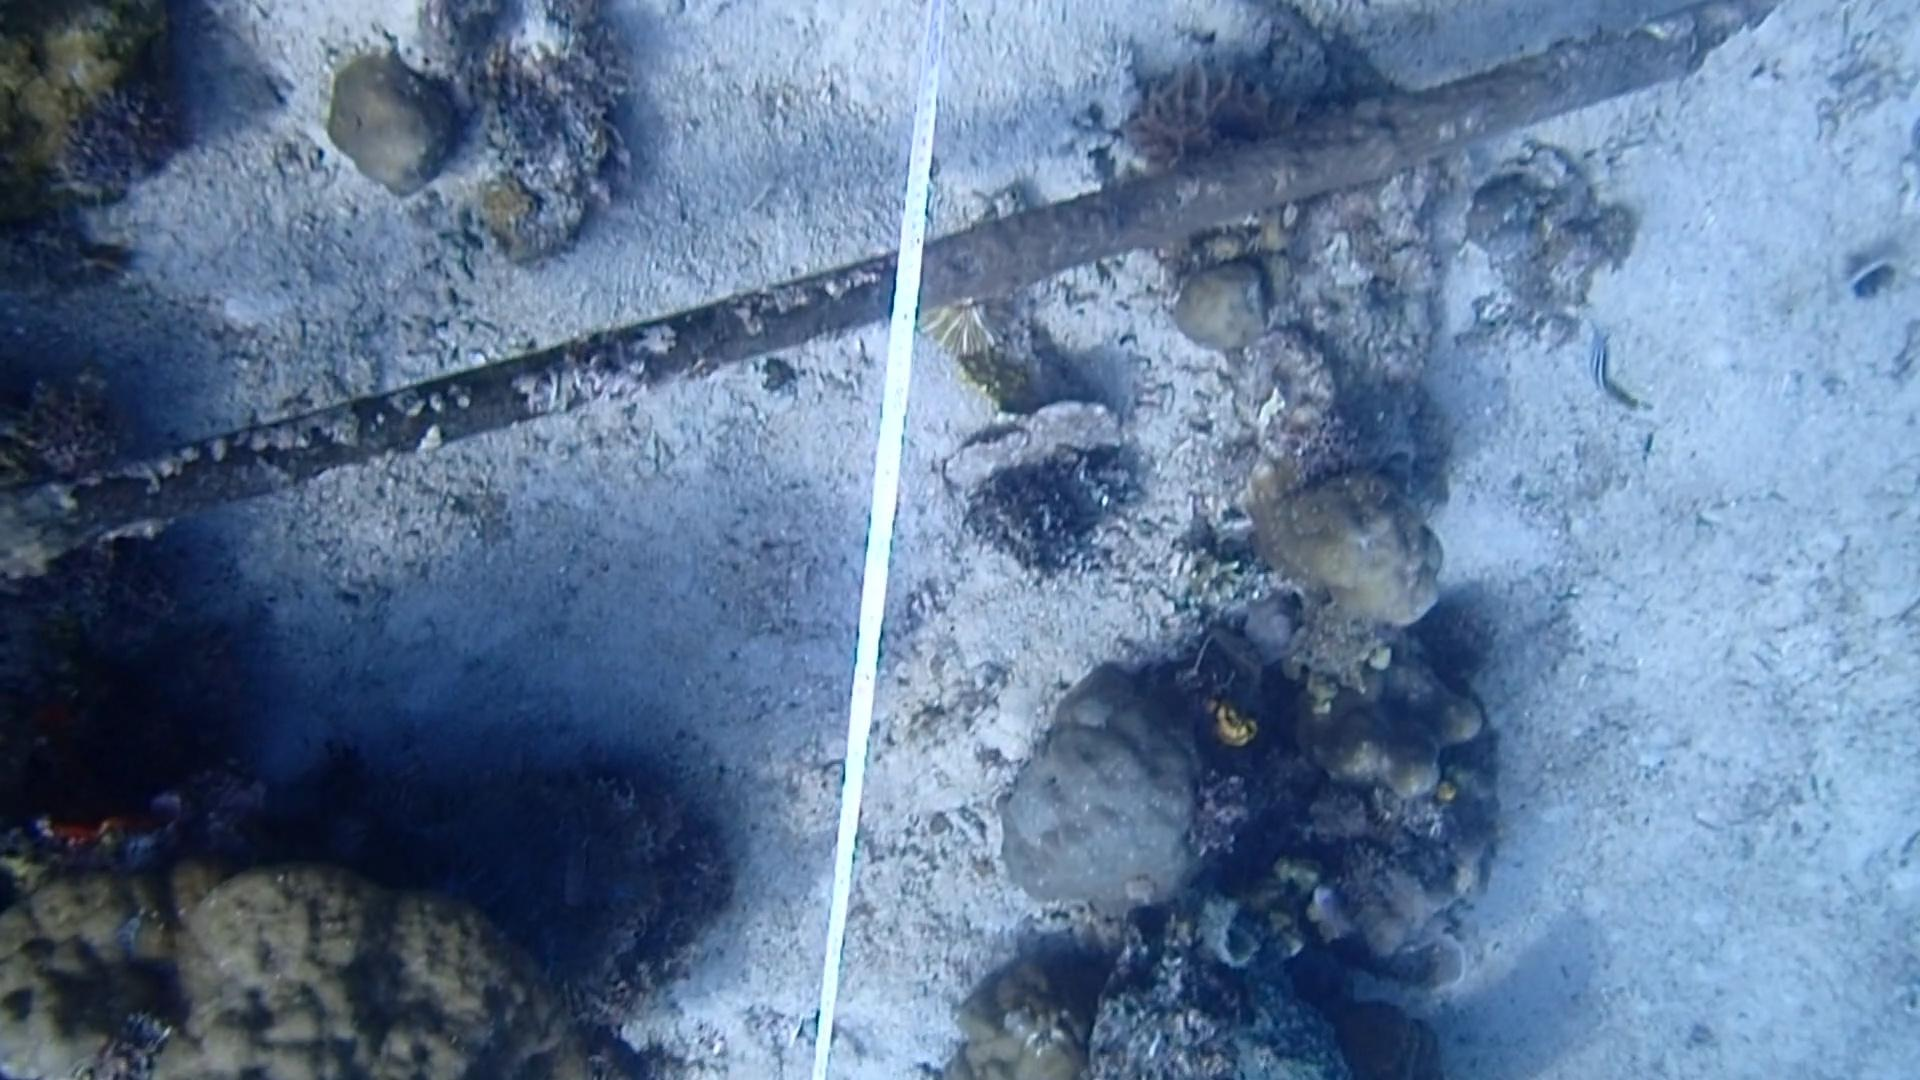Blue Nose Fish: (1307, 880, 1357, 936)
Dark Fish: (543, 785, 624, 890)
Striped Fish: (1576, 323, 1647, 423)
